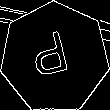P_S: (31, 28, 78, 87)
